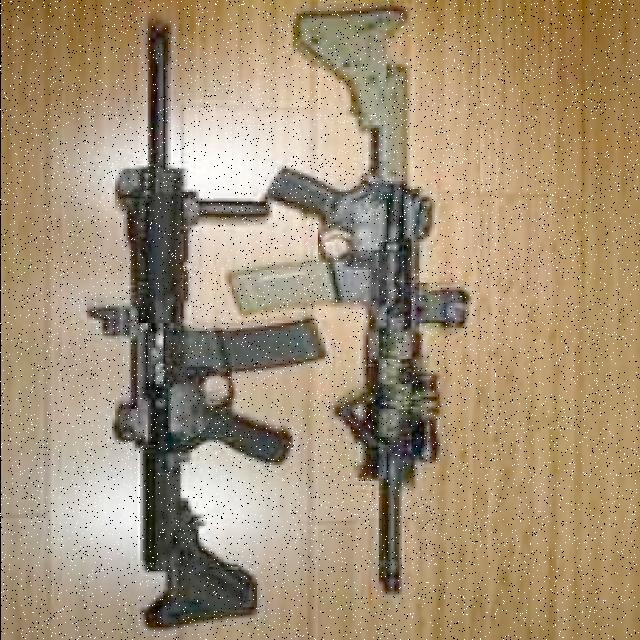Rifle: (83, 19, 327, 632), (225, 6, 473, 597)
